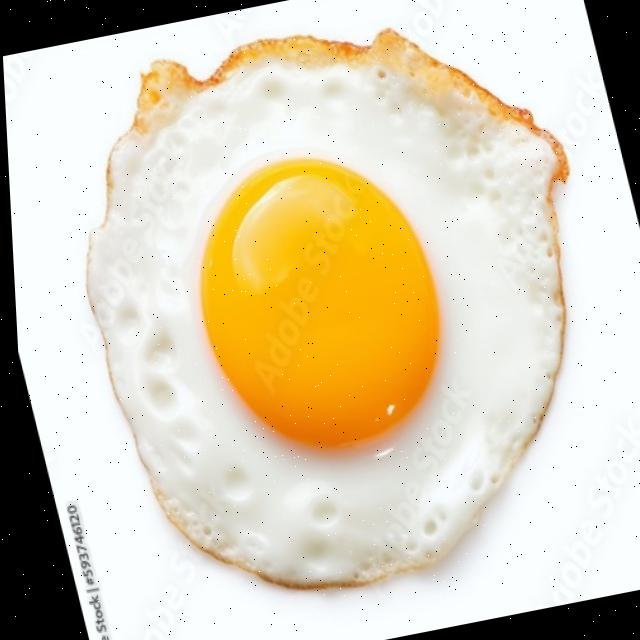Egg: (84, 31, 566, 585)
